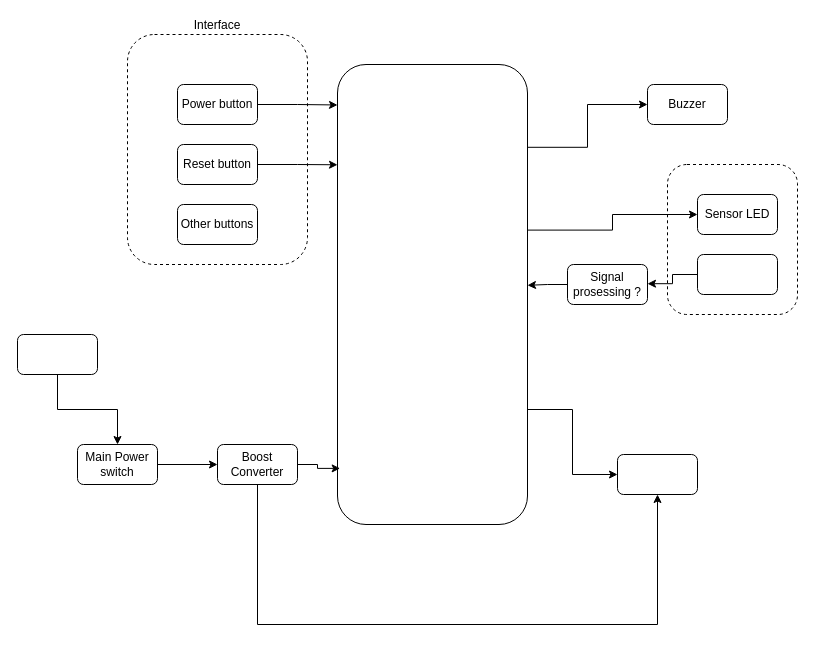
The diagram is 815 pixels wide and 650 high, and some of its shapes have lost their labels. The centre of each missing label's shape, as x and y in pixels:
Battery: point (57, 354)
Display: point (657, 474)
Microcontroller: point (432, 294)
Sensor Receiver: point (737, 274)
